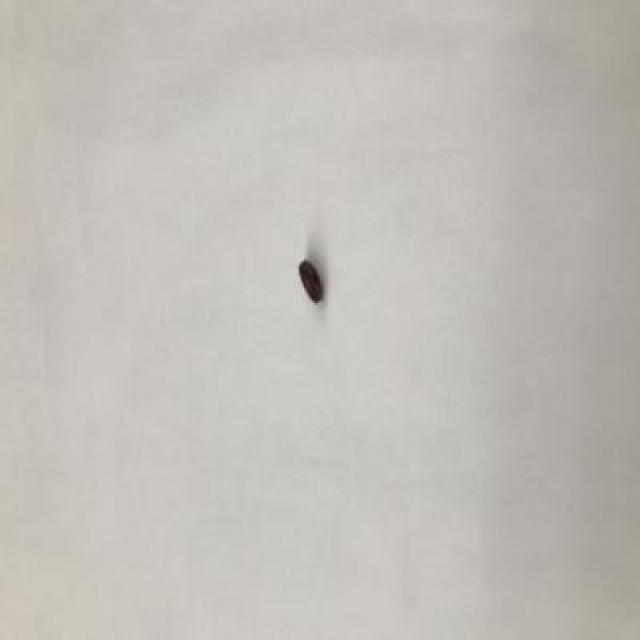compost: (286, 235, 335, 321)
